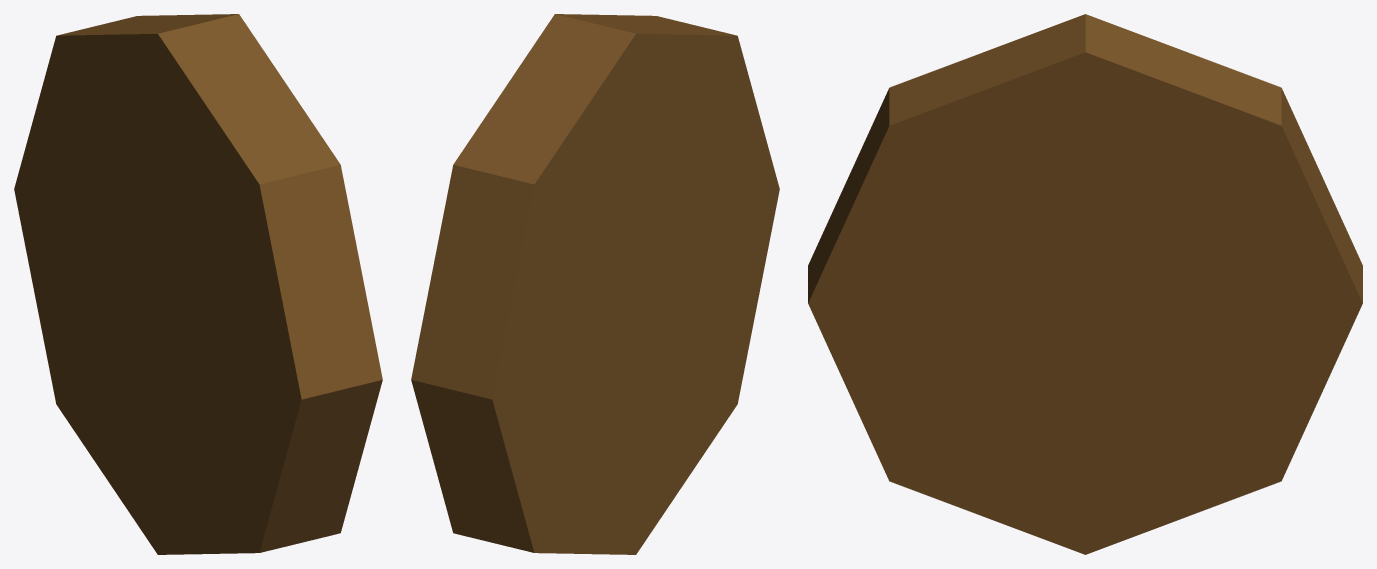
Rendered from cartwheel.fbx.
3 views of the same model, side by side, from view 1: azimuth 30°, elevation 25°; view 2: azimuth 150°, elevation 25°; view 3: azimuth 270°, elevation 25° (orthographic). The views are drawn at different scales.
Parts seen in each view (by area): view 1: polySurface10; view 2: polySurface10; view 3: polySurface10.
Part boxes in pixels (bbox=[...]): polySurface10: bbox=[14, 14, 382, 554]; polySurface10: bbox=[411, 14, 779, 554]; polySurface10: bbox=[808, 14, 1362, 554].
Size of the model in its own units: 2.11 by 12.93 by 12.93.
1 material, 1 textured.
